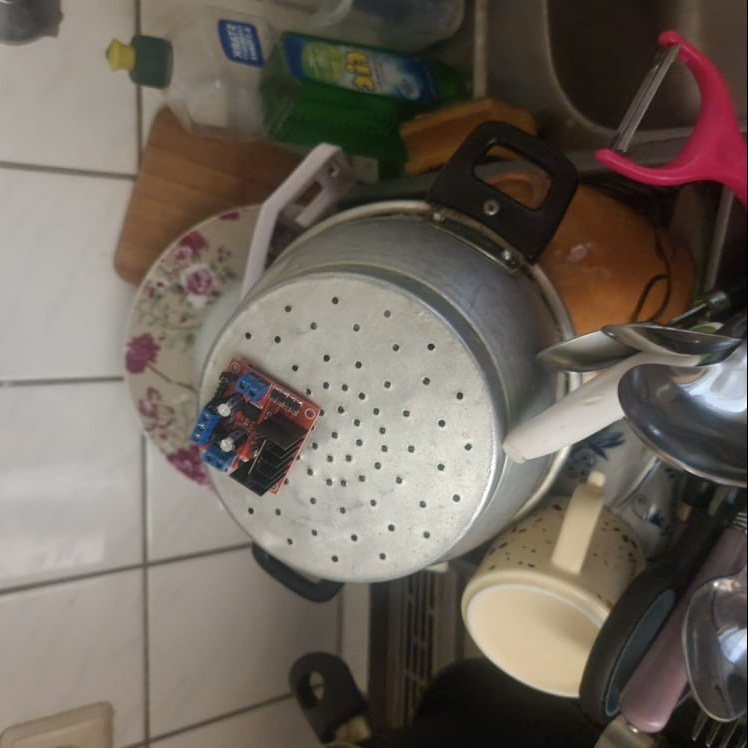MOTOR: (191, 357, 326, 500)
